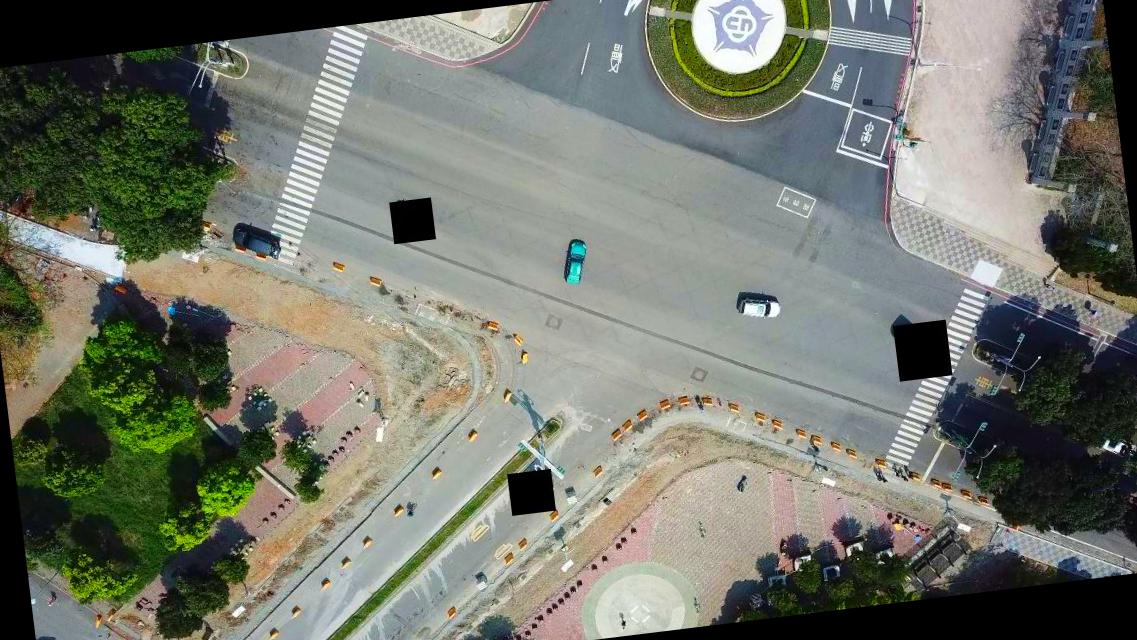vehicle: (231, 223, 282, 265), (735, 289, 782, 322), (558, 240, 591, 286), (1096, 434, 1136, 464)
